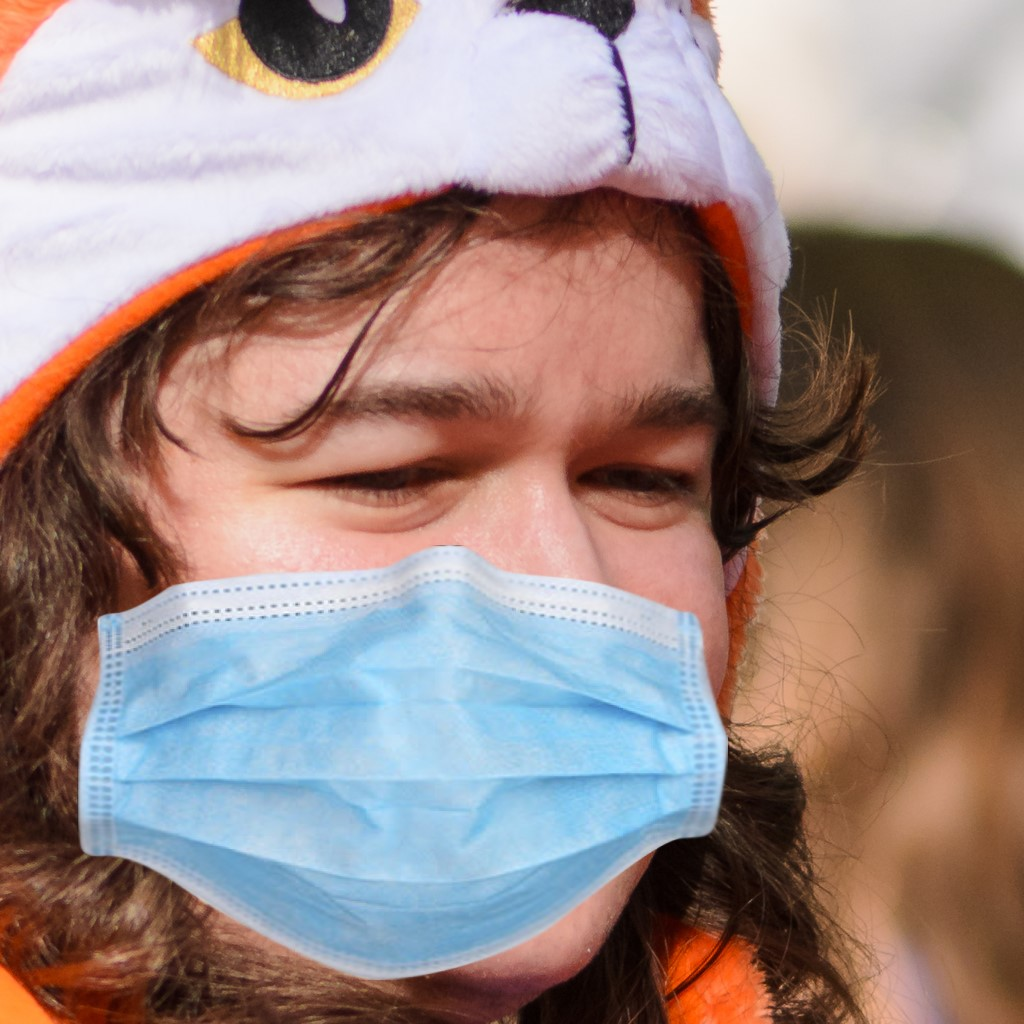con_mascara: (103, 185, 738, 975)
